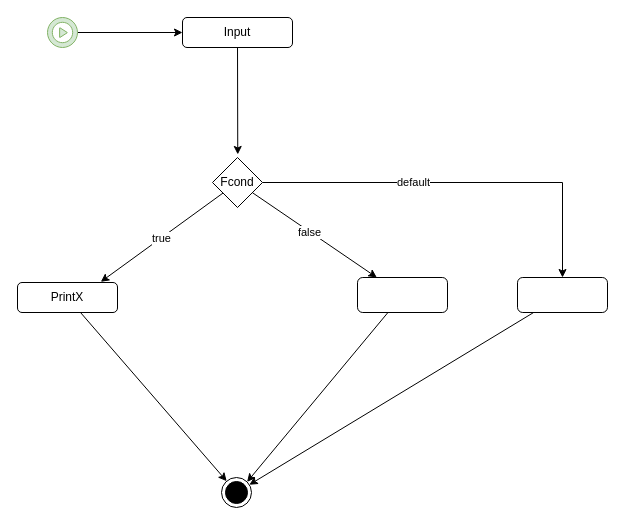
Image size: 625x525. Some labels were removed from this diagram. Each missing label, with the centre of its shape:
PrintY: pixel 402 294
PrintZ: pixel 562 294
